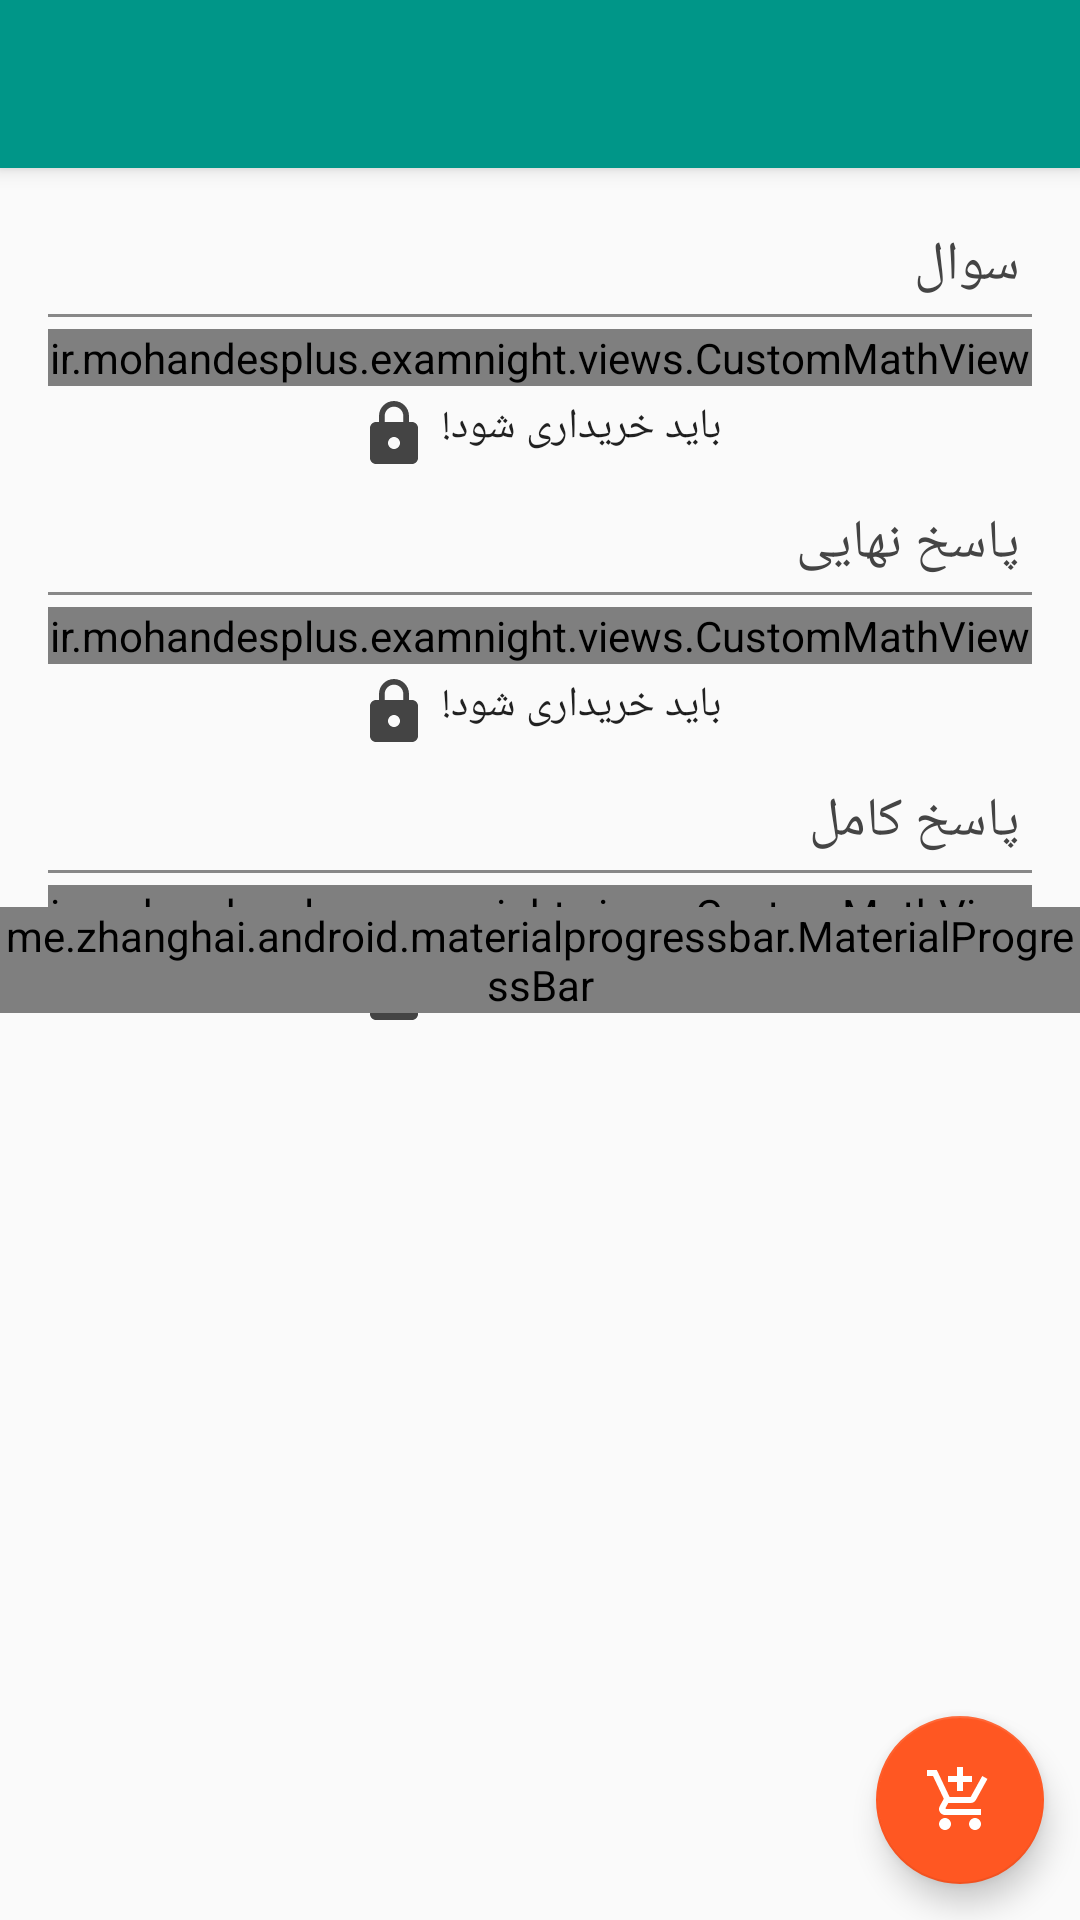

Point at icon controls on the screen. Image size 1080x1920, points as [x,y].
add shopping cart: [960,1800]
